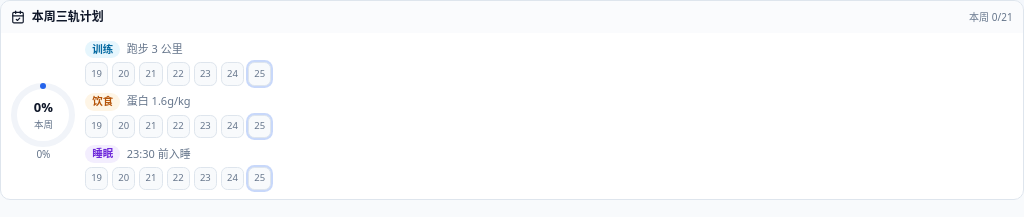
Test: 三轨打卡卡（::: tracks） › 渲染三轨 + 周网格；点格落盘 + streak 徽标出现
Step 1. Click the button "25" below "跑步 3 公里" → [260, 74], box [248,62,271,86]
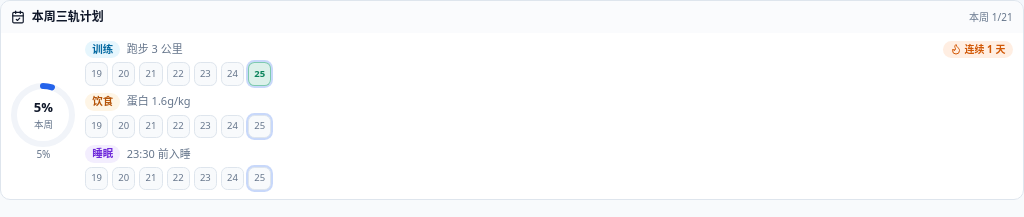
Result: the element showing "连续 1 天" is shown at [943,41,1013,58]
Result: the element that starts with "本周三轨计划" shows "连续 1 天"
